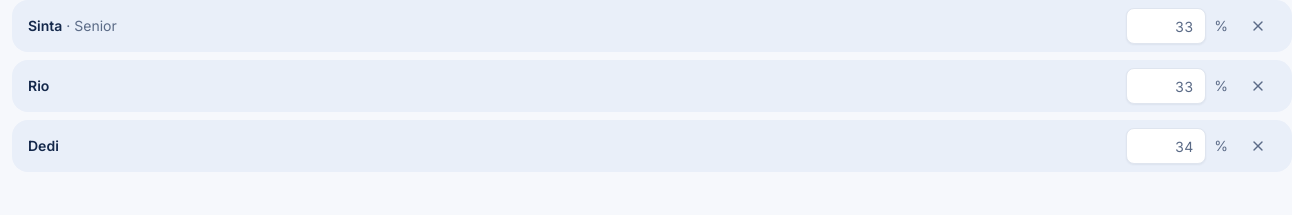
Test: SessionCrew › says the total is wrong on a crew of three, and sends nothing
Replace the text in the field labelled "%" in the row of "Sinta" with "50" at (1166, 26), box [1126, 8, 1206, 44]
Then press Enter
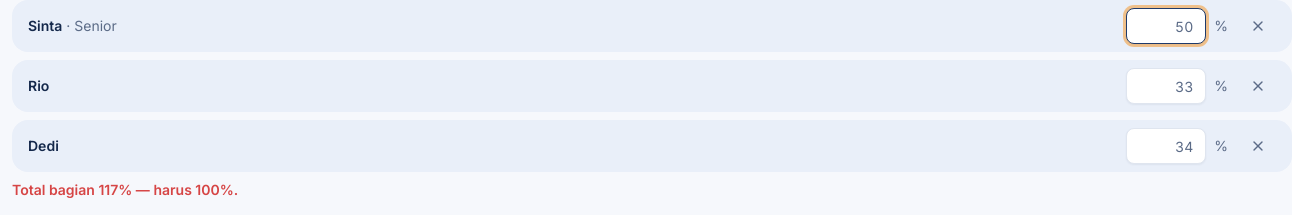
Expected: the message reads "Total bagian 117% — harus 100%.", [12, 181, 238, 198]
